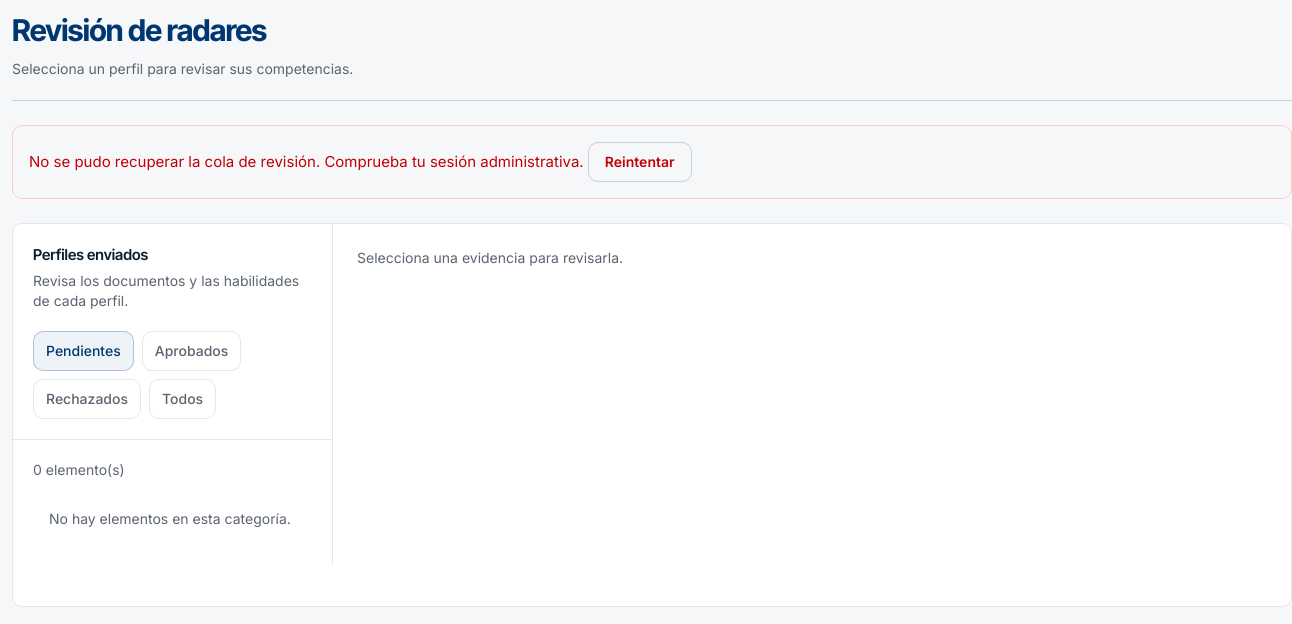
Scenario: ReviewQueueView with the persistent API › allows retry after the API rejects the queue request
Expected: the message is shown, [12,125,1291,199]
Click the button "Reintentar" at point(640, 162), box [588,142,692,182]
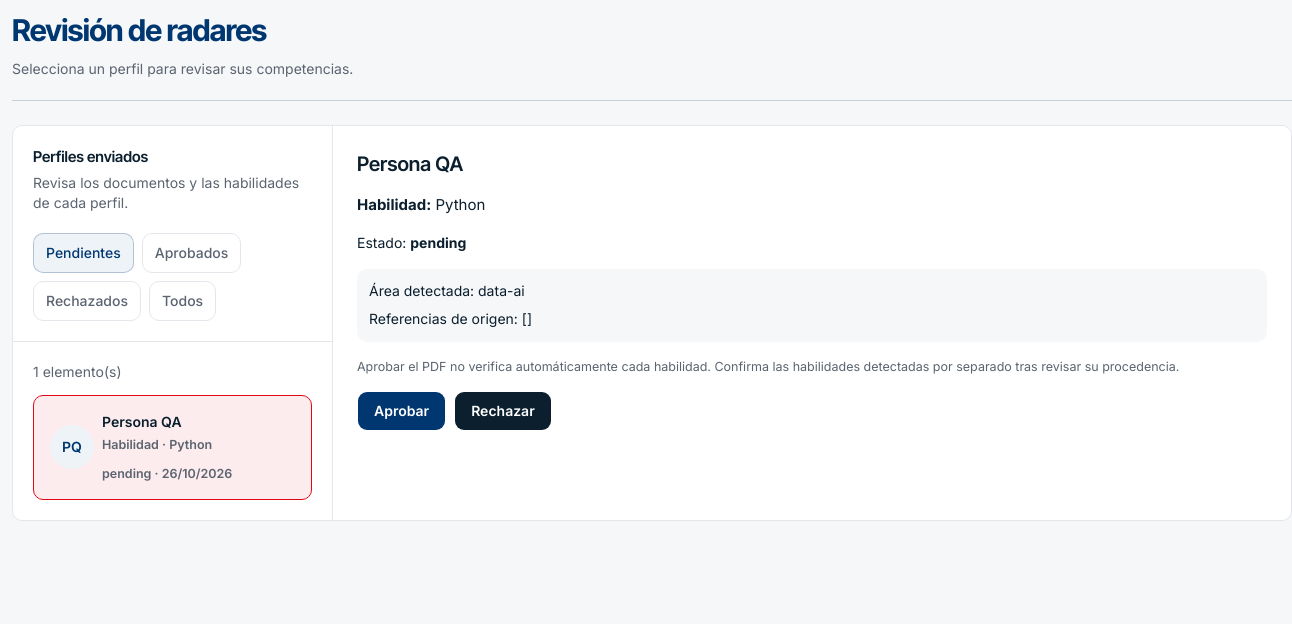
Expected: the heading "Persona QA" is shown, [357,152,463,176]
